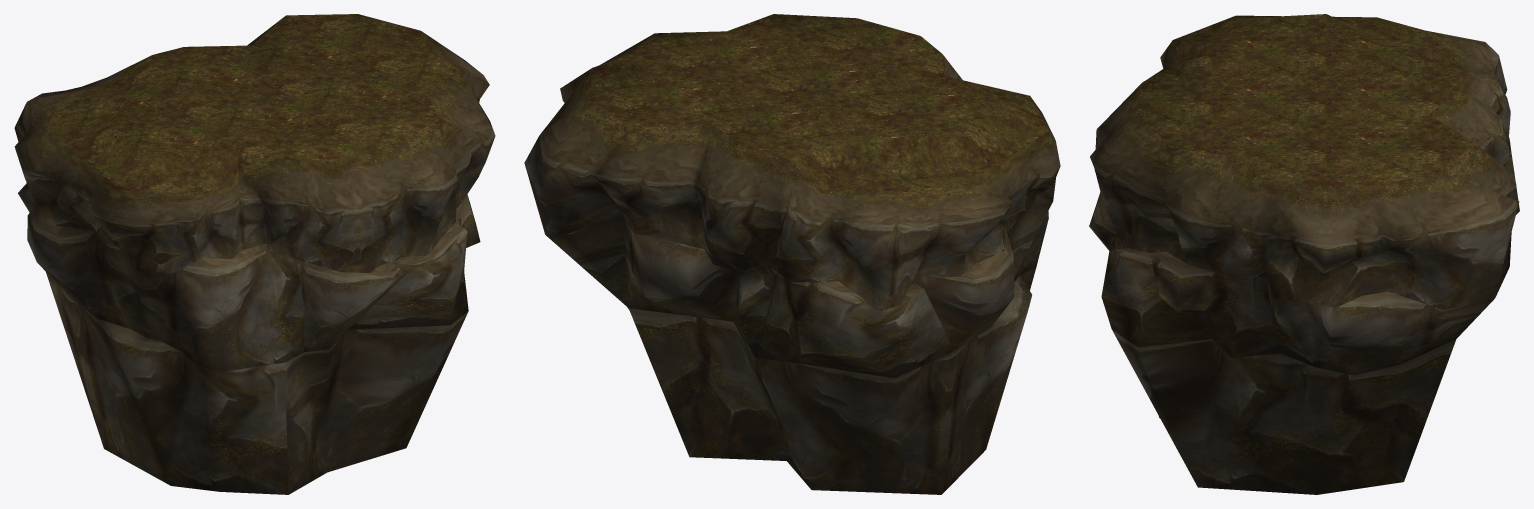
Rendered from C_bridgeend002.fbx.
3 views of the same model, side by side, from view 1: azimuth 30°, elevation 25°; view 2: azimuth 150°, elevation 25°; view 3: azimuth 270°, elevation 25° (orthographic). The views are drawn at different scales.
Parts seen in each view (by area): view 1: C_bridgeend002; view 2: C_bridgeend002; view 3: C_bridgeend002.
Boxes of the visible parts, left/top/right/bottom form: C_bridgeend002: left=14, top=14, right=495, bottom=494; C_bridgeend002: left=524, top=14, right=1060, bottom=494; C_bridgeend002: left=1089, top=14, right=1519, bottom=494.
Bounding box in the file's own units: 2461 × 1793 × 2000.
